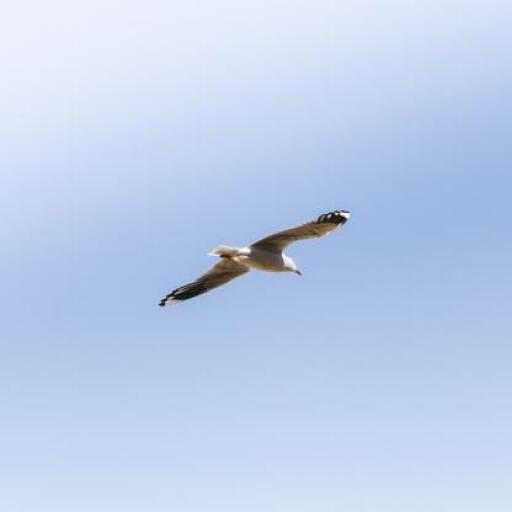bird: (159, 210, 351, 308)
